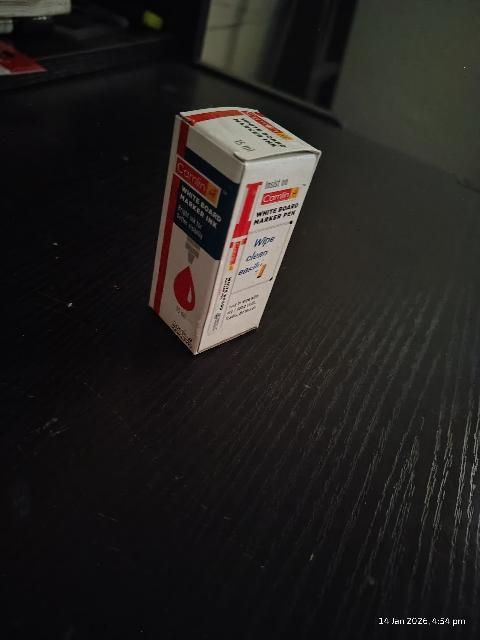camlin marker ink: (157, 111, 317, 347)
